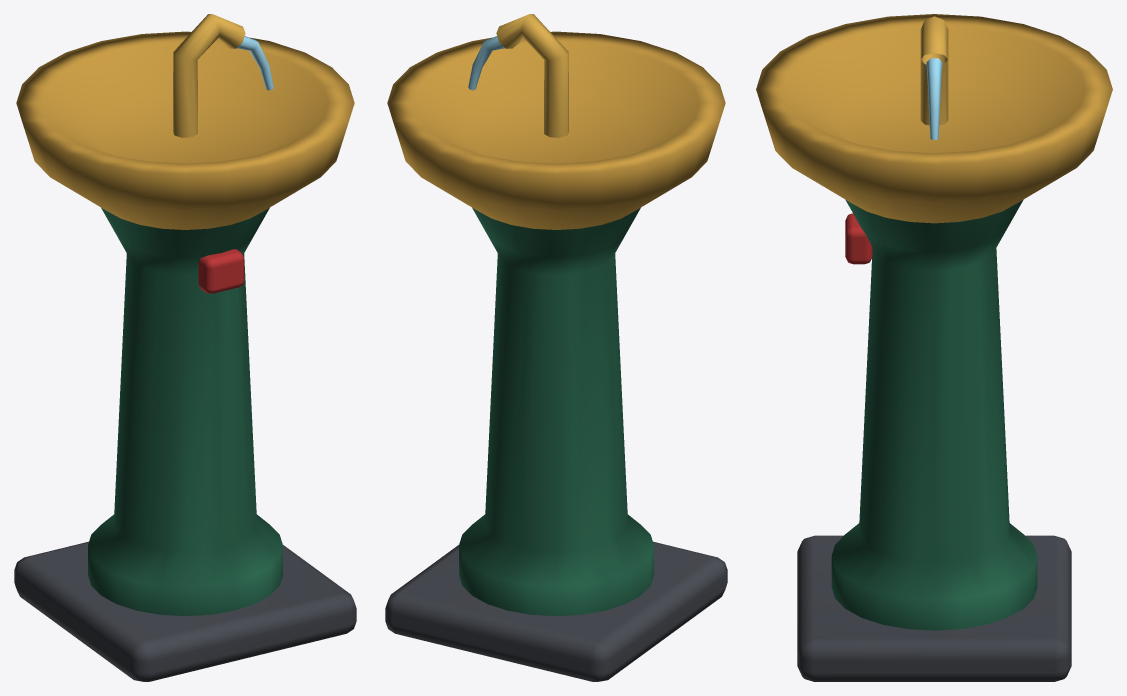
The model's file is drinkfountain.glb.
3 views of the same model, side by side, from view 1: azimuth 30°, elevation 25°; view 2: azimuth 150°, elevation 25°; view 3: azimuth 270°, elevation 25° (orthographic). The views are drawn at different scales.
Visible parts, largest first — view 1: drinkfountain_main, drinkfountain_gloss, drinkfountain_water; view 2: drinkfountain_main, drinkfountain_gloss, drinkfountain_water; view 3: drinkfountain_main, drinkfountain_gloss, drinkfountain_water.
Part boxes in pixels (x1=…): drinkfountain_main: x1=14, y1=207, x2=356, y2=681; drinkfountain_gloss: x1=16, y1=14, x2=354, y2=229; drinkfountain_water: x1=237, y1=36, x2=273, y2=90; drinkfountain_main: x1=385, y1=207, x2=727, y2=681; drinkfountain_gloss: x1=387, y1=14, x2=725, y2=229; drinkfountain_water: x1=468, y1=36, x2=504, y2=90; drinkfountain_main: x1=797, y1=199, x2=1071, y2=681; drinkfountain_gloss: x1=756, y1=14, x2=1112, y2=223; drinkfountain_water: x1=926, y1=58, x2=942, y2=139.
Bounding box in the file's own units: 0.52 × 1.01 × 0.52.
